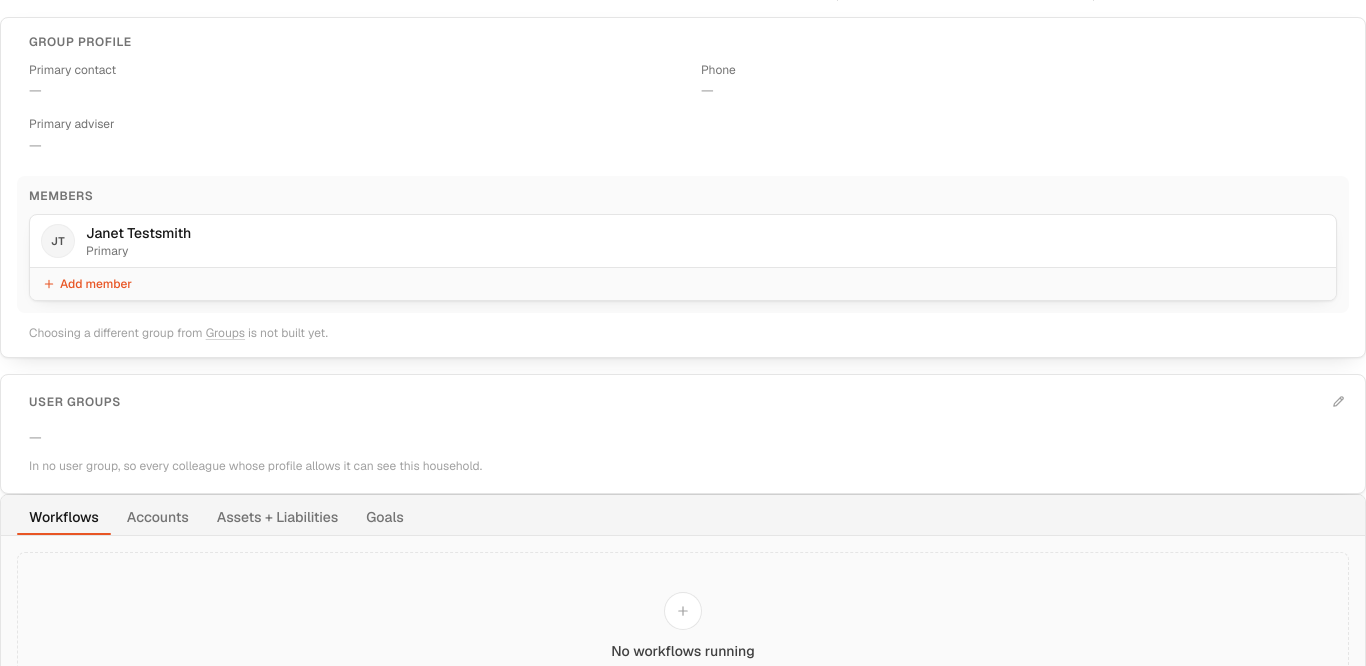
Test: the Assets + Liabilities tab › the totals › the assets total says what it left out, and the liabilities total has nothing to say
The width and height of the screenshot is (1366, 666).
Click the tab "Assets + Liabilities". click: (278, 517)
box: [205,499,350,535]
(page scrolled)
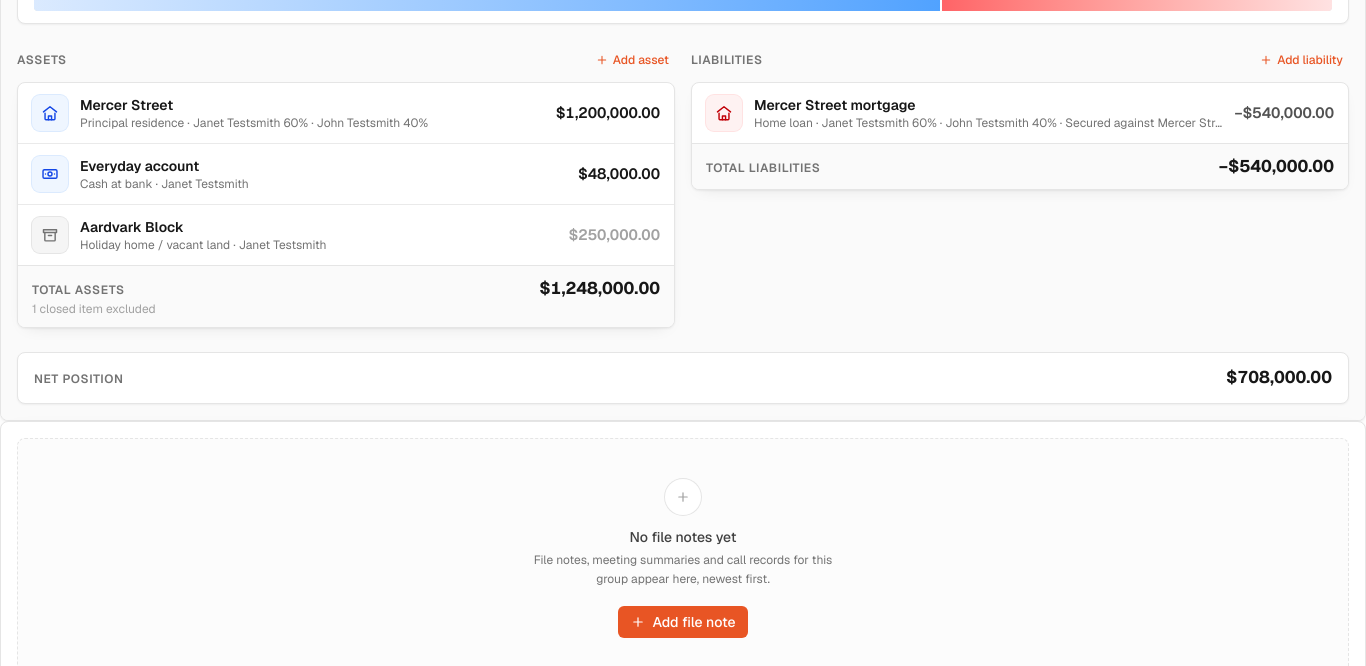
Expected: the text "excluded" is not shown
Expected: the element showing "Total assets 1 closed item excluded $1,248,000.00" is shown, [18,265,674,327]
